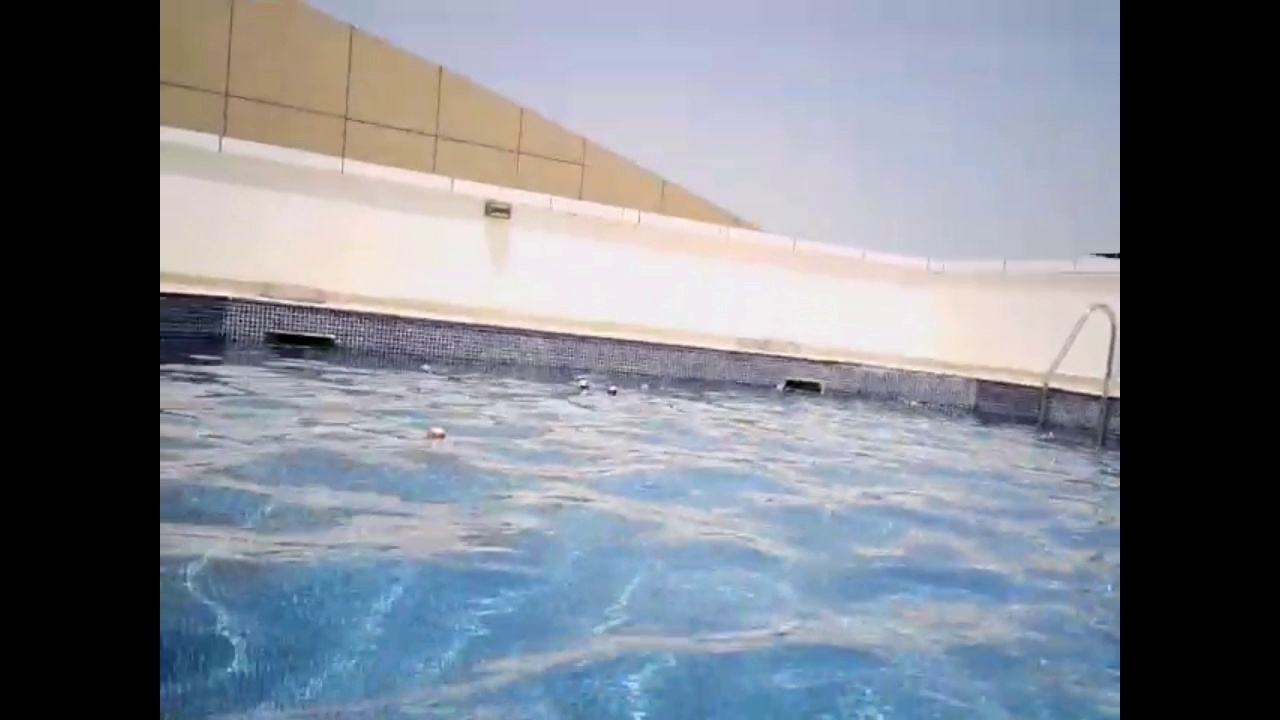debris: (426, 422, 450, 452), (574, 372, 594, 396), (440, 372, 464, 387), (415, 360, 434, 377), (770, 379, 788, 395), (634, 379, 652, 395), (605, 383, 618, 398)
